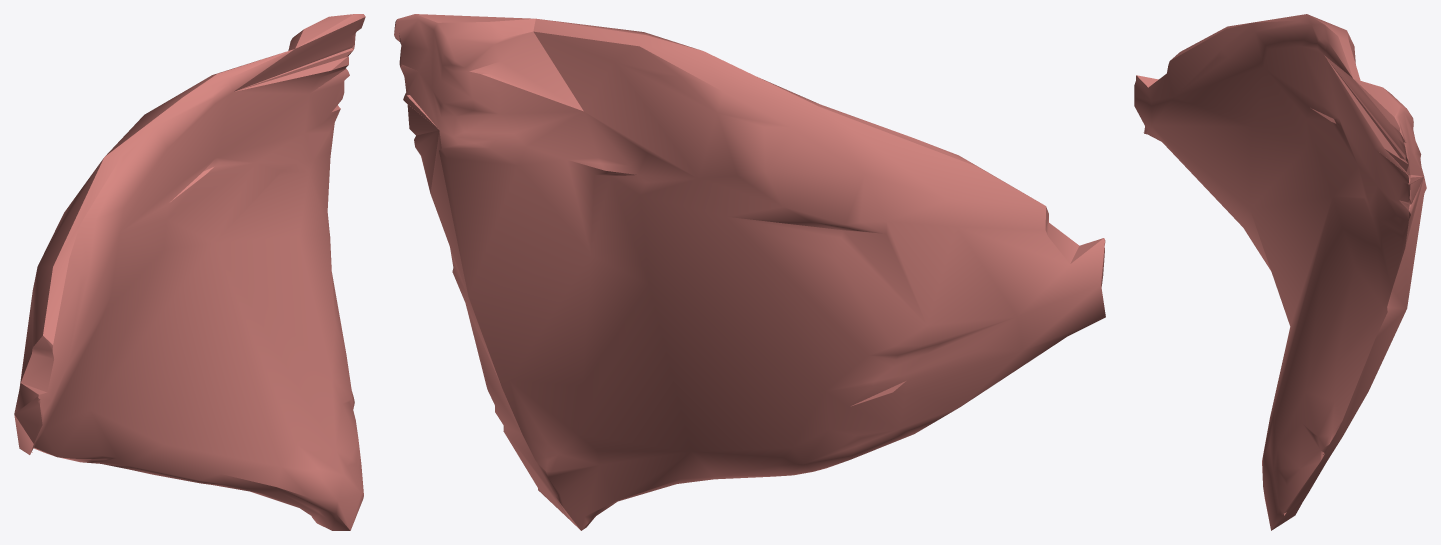
Rendered from fma46123_fj1515.glb.
The picture shows the model from 3 angles, left to right: view 1: azimuth 30°, elevation 25°; view 2: azimuth 150°, elevation 25°; view 3: azimuth 270°, elevation 25°; orthographic projection. The views are drawn at different scales.
Visible parts, largest first — view 1: FMA46123_FJ1515; view 2: FMA46123_FJ1515; view 3: FMA46123_FJ1515.
Part boxes in pixels (bbox=[...]): FMA46123_FJ1515: bbox=[14, 14, 365, 530]; FMA46123_FJ1515: bbox=[394, 14, 1105, 530]; FMA46123_FJ1515: bbox=[1134, 14, 1426, 530].
Bounding box in the file's own units: 0.0411 × 0.0381 × 0.0225.
